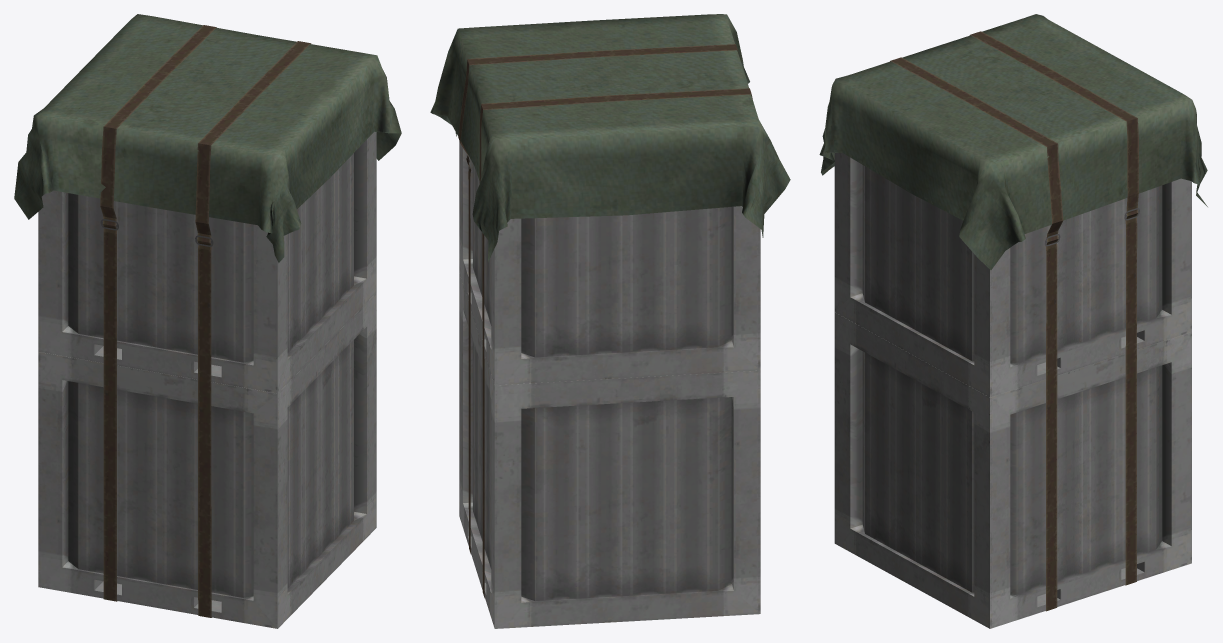
File: Archery_SteelBox01.fbx
The picture shows the model from 3 angles, left to right: view 1: azimuth 30°, elevation 25°; view 2: azimuth 150°, elevation 25°; view 3: azimuth 270°, elevation 25°; orthographic projection. The views are drawn at different scales.
Visible parts, largest first — view 1: ItemBox_SteelBox_03; view 2: ItemBox_SteelBox_03; view 3: ItemBox_SteelBox_03.
Boxes of the visible parts, left/top/right/bottom form: ItemBox_SteelBox_03: left=14, top=14, right=401, bottom=628; ItemBox_SteelBox_03: left=430, top=14, right=790, bottom=628; ItemBox_SteelBox_03: left=819, top=14, right=1207, bottom=628.
Size of the model in its own units: 151 by 201 by 152.
Materials: 1 (1 with a texture image).
